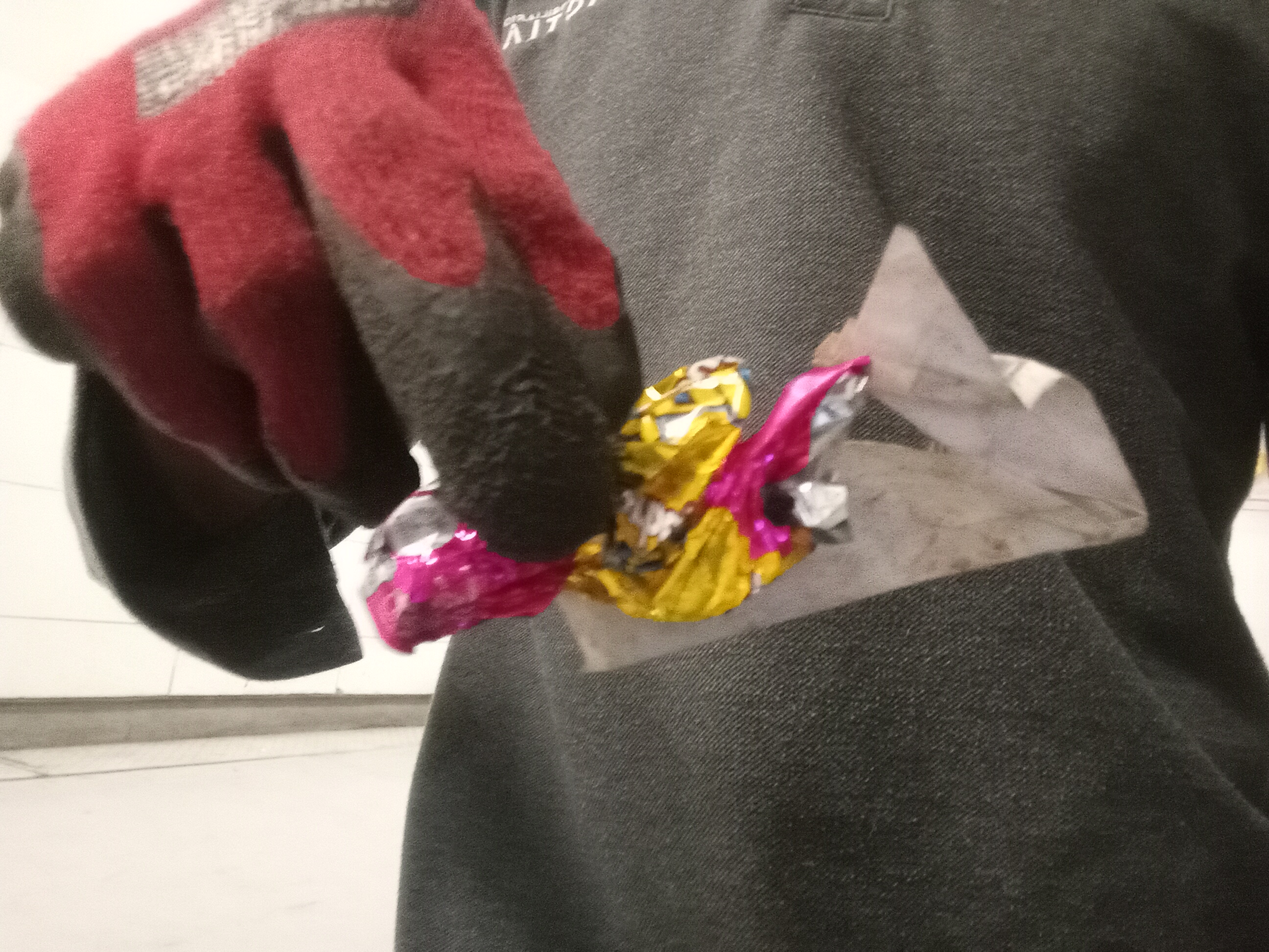Ordinario: (354, 220, 1151, 672)
